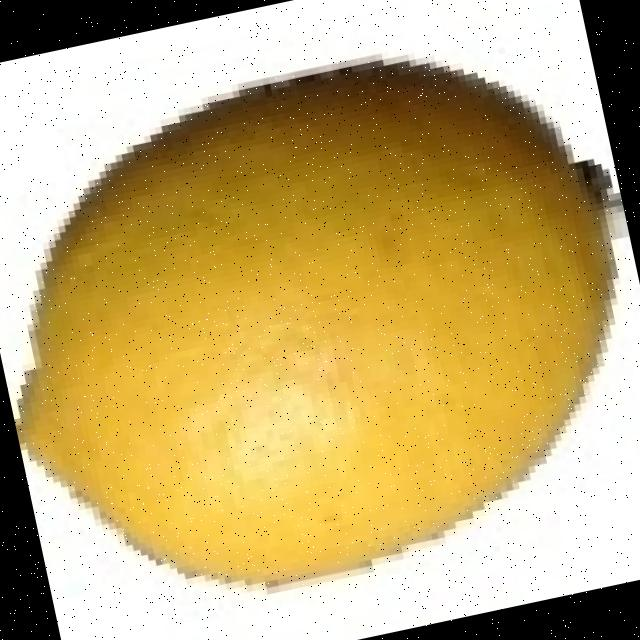lemon: (14, 64, 611, 585)
